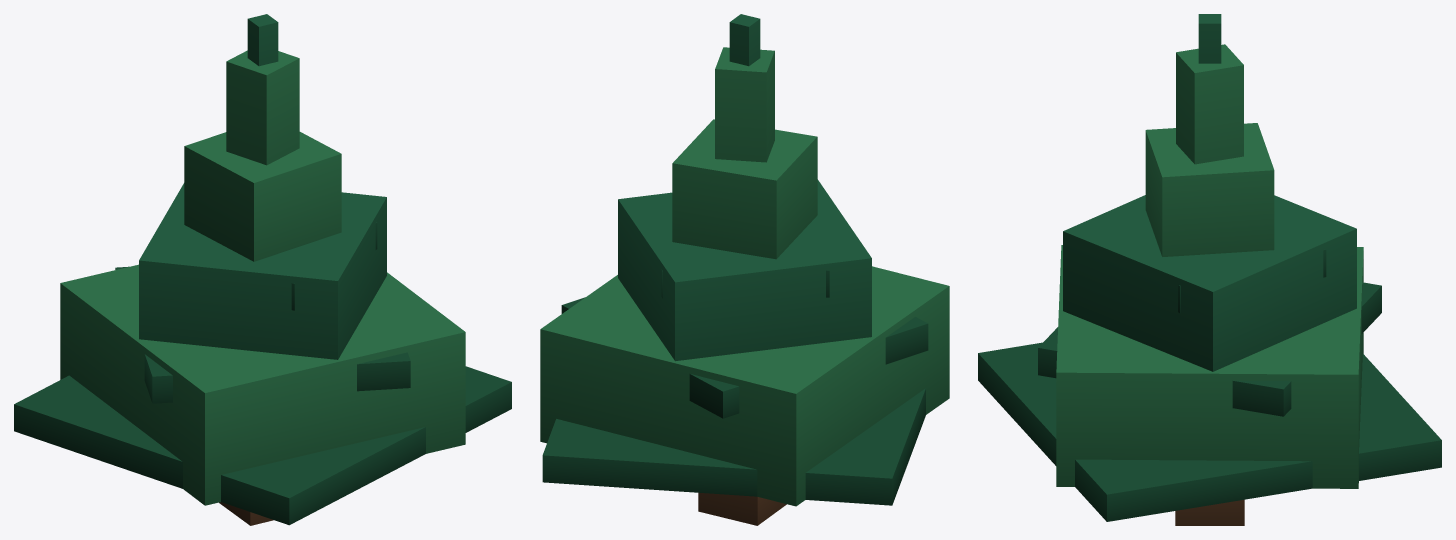
Rendered from A01_spruce_small.glb.
The picture shows the model from 3 angles, left to right: view 1: azimuth 30°, elevation 25°; view 2: azimuth 150°, elevation 25°; view 3: azimuth 270°, elevation 25°; orthographic projection.
Parts seen in each view (by area): view 1: A01_spruce_small; view 2: A01_spruce_small; view 3: A01_spruce_small.
Boxes of the visible parts, <box> form: A01_spruce_small: <box>14,14,511,525</box>; A01_spruce_small: <box>540,14,949,525</box>; A01_spruce_small: <box>978,14,1441,525</box>.
Bounding box in the file's own units: 3.68 × 4.32 × 3.68.
